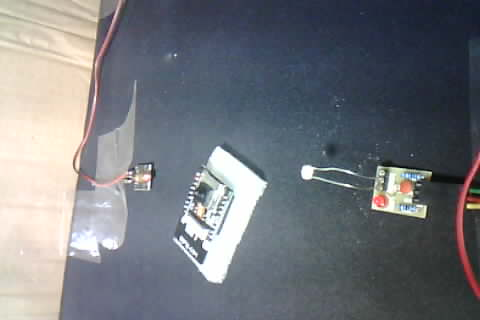esp32: (168, 150, 255, 278)
